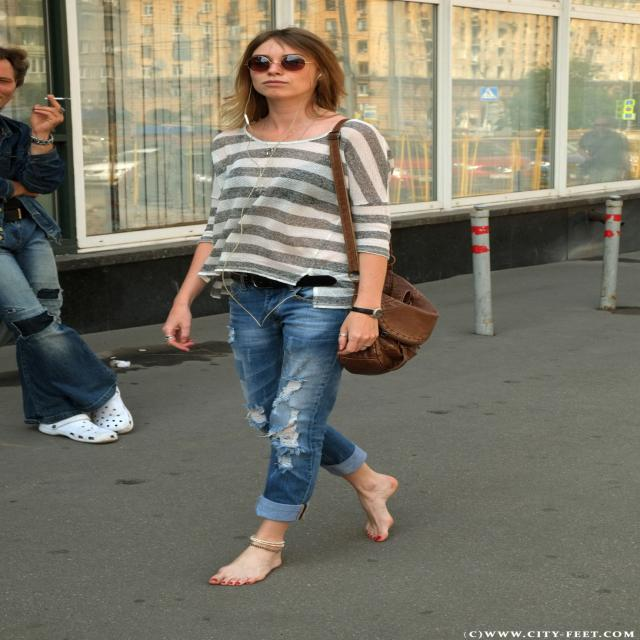No Safety Boots: (209, 549, 282, 585), (361, 474, 398, 542)
